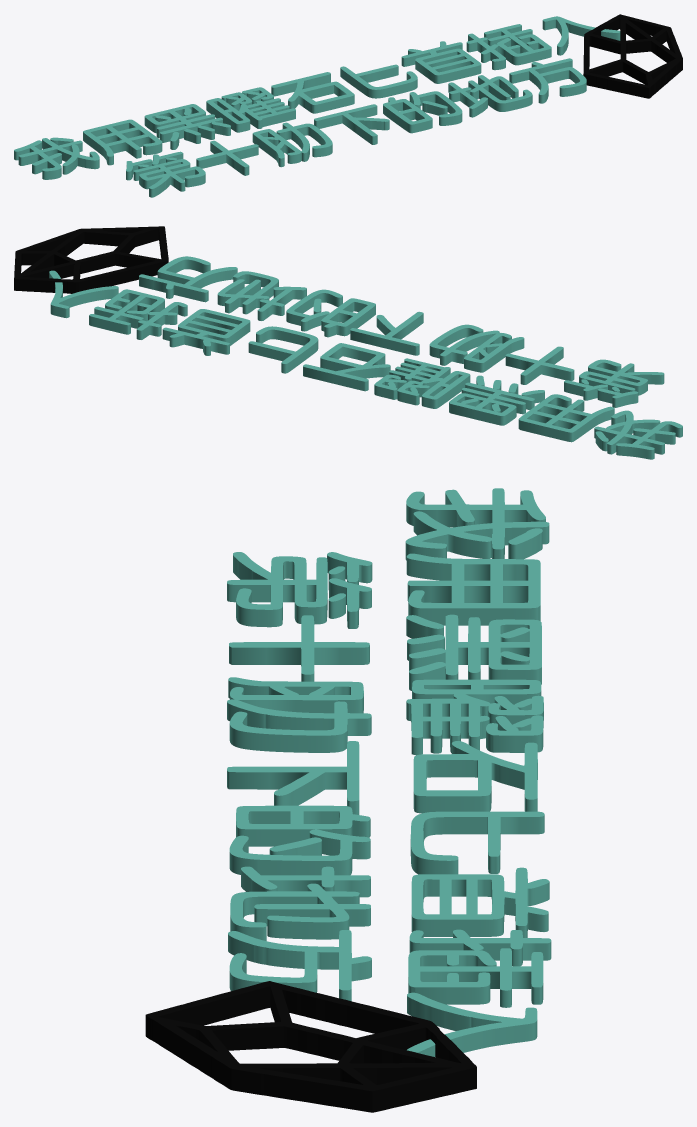
File: five.obj
3 renders of one model, top to bottom at view 1: azimuth 30°, elevation 25°; view 2: azimuth 150°, elevation 25°; view 3: azimuth 270°, elevation 25°, orthographic. The views are drawn at different scales.
Visible parts, largest first — view 1: path1, path0; view 2: path1, path0; view 3: path1, path0.
Boxes of the visible parts, x1=… form: path1: x1=14, y1=16, x2=620, y2=197; path0: x1=583, y1=14, x2=682, y2=98; path1: x1=49, y1=256, x2=682, y2=459; path0: x1=14, y1=226, x2=168, y2=293; path1: x1=227, y1=488, x2=551, y2=1056; path0: x1=145, y1=981, x2=476, y2=1112.
Size of the model in its own units: 1.2 by 0.0198 by 0.34.
